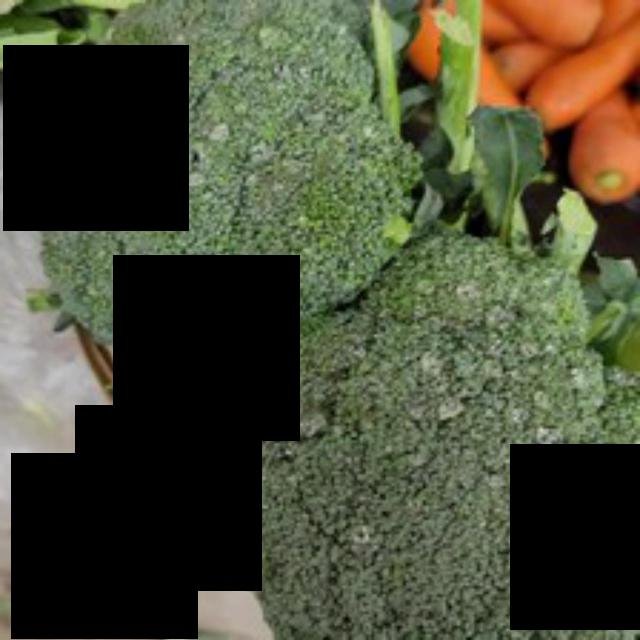broccoli: (25, 3, 447, 461)
